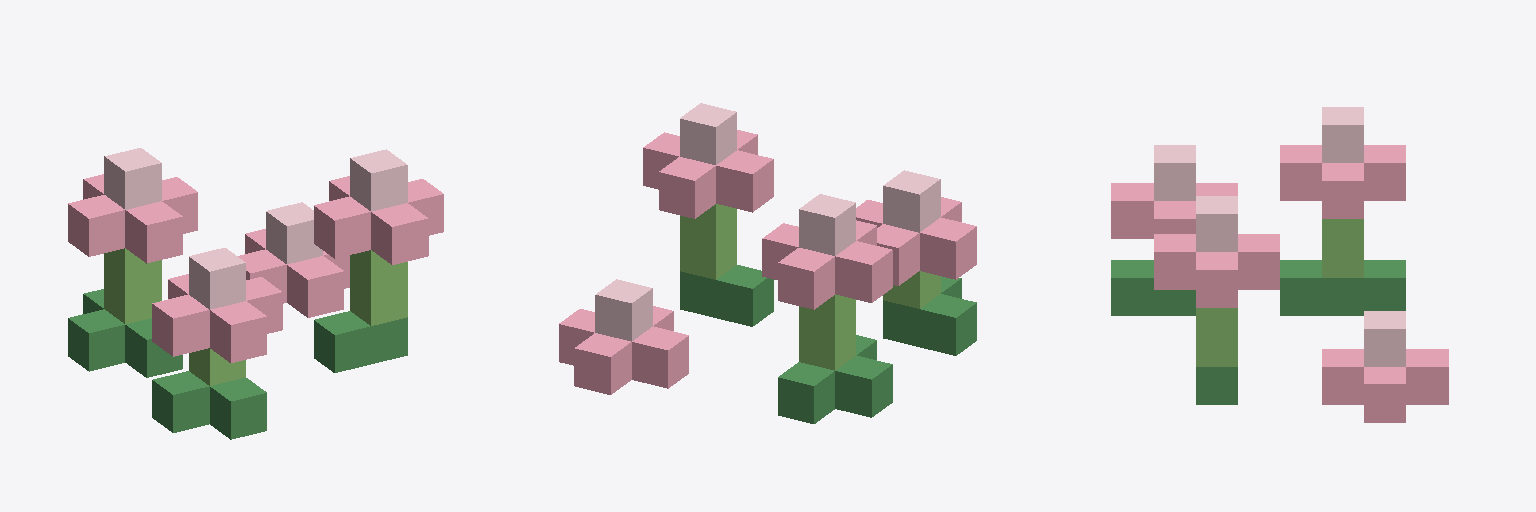
3 views of the same model, side by side, from view 1: azimuth 30°, elevation 25°; view 2: azimuth 150°, elevation 25°; view 3: azimuth 270°, elevation 25° (orthographic).
Parts seen in each view (by area): view 1: Matrix_25; view 2: Matrix_25; view 3: Matrix_25.
Boxes of the visible parts, x1=… form: Matrix_25: x1=68, y1=148, x2=443, y2=439; Matrix_25: x1=559, y1=103, x2=976, y2=423; Matrix_25: x1=1111, y1=107, x2=1448, y2=422.
Size of the model in its own units: 8 by 5 by 8.
1 materials, 1 textured.